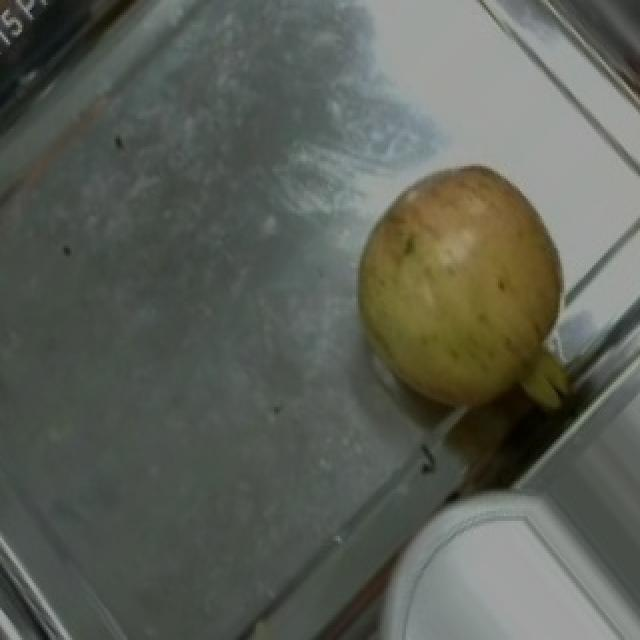fruit: (328, 134, 594, 402)
